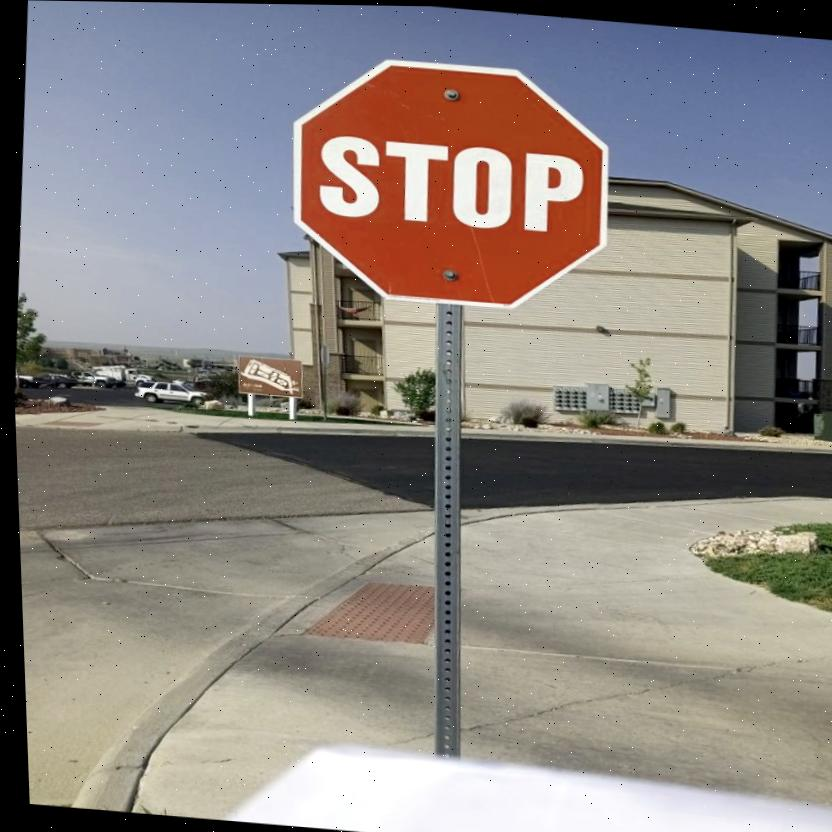Pole: (402, 307, 482, 763)
Sign: (289, 56, 612, 310)
